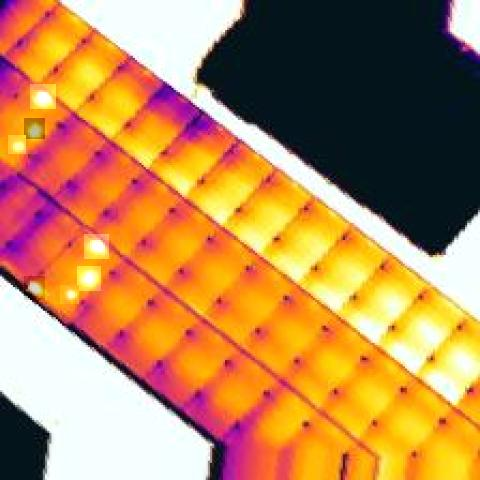fault: (30, 84, 56, 109), (84, 234, 109, 259), (77, 266, 101, 291), (24, 276, 45, 300), (24, 118, 45, 139), (60, 285, 79, 304), (8, 135, 26, 154)
